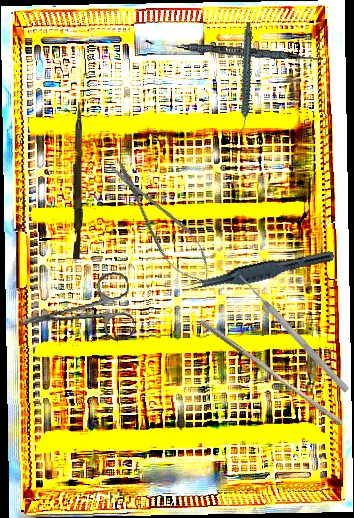Handpiece: (216, 21, 274, 135)
Iris Scissors: (13, 270, 137, 354)
Micro Scissor: (97, 149, 223, 294)
Pusher: (194, 317, 348, 428), (236, 272, 351, 394), (70, 101, 85, 260)
Spatula Surgical: (144, 39, 324, 63)
Tissue Forceps: (183, 241, 336, 301)
